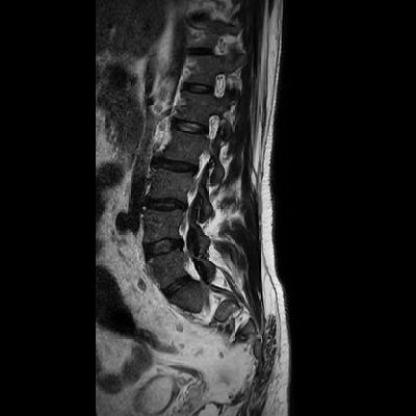Degenerative Disc Diseaserotation: (144, 196, 189, 213), (158, 158, 198, 174)
Disc Bulgerotation: (144, 196, 189, 213), (158, 158, 198, 175), (145, 239, 184, 255)
